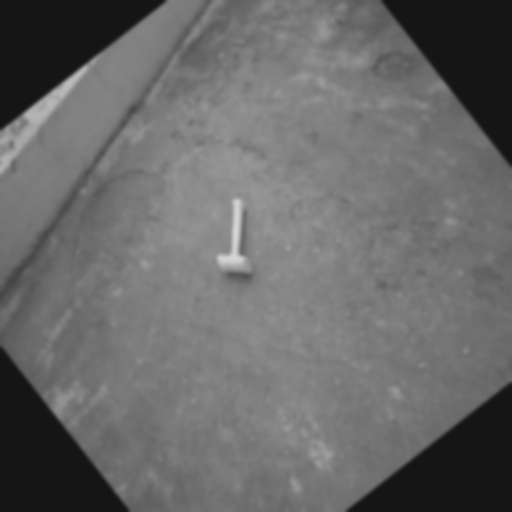mallet: (190, 194, 283, 288)
